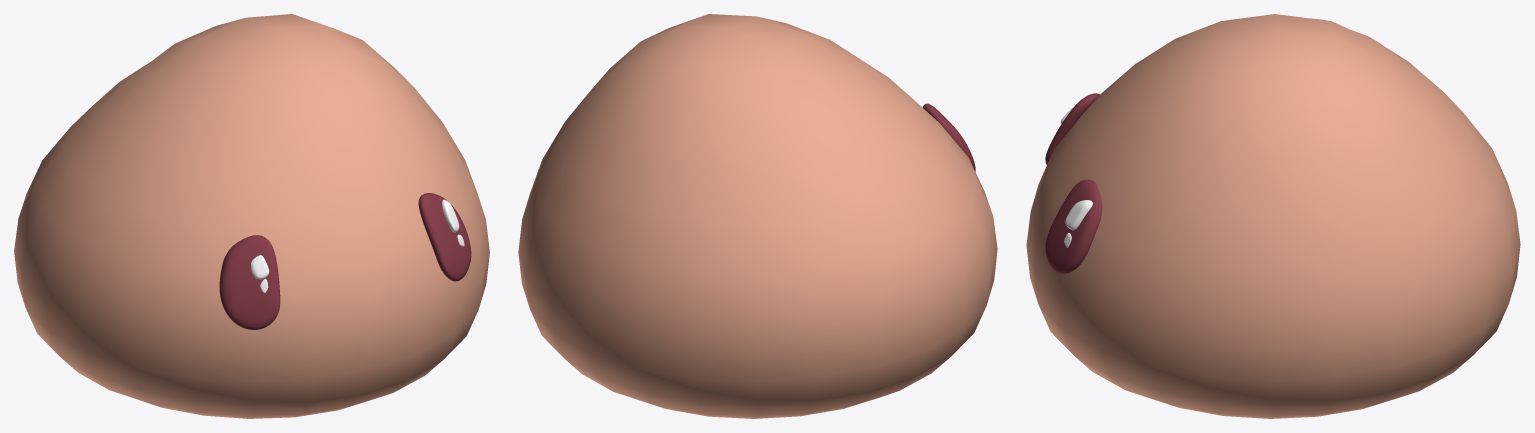
Rendered from slime.fbx.
3 renders of one model, left to right at view 1: azimuth 30°, elevation 25°; view 2: azimuth 150°, elevation 25°; view 3: azimuth 270°, elevation 25°, orthographic. The views are drawn at different scales.
Parts seen in each view (by area): view 1: Cube, Plane.001, Plane.002; view 2: Cube, Plane.001; view 3: Cube, Plane.001, Plane.002.
Part boxes in pixels (x1,y1,x2,y2): Cube: (14,14,489,418); Plane.001: (219,193,471,329); Plane.002: (251,199,459,279); Cube: (518,14,997,418); Plane.001: (922,103,975,171); Cube: (1026,14,1520,418); Plane.001: (1045,93,1102,274); Plane.002: (1060,107,1092,230).
Size of the model in its own units: 347 by 254 by 344.
